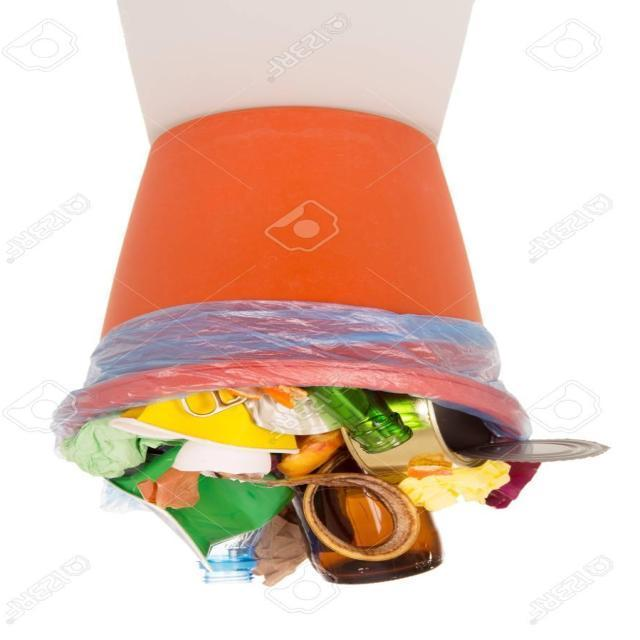Garbage: (33, 367, 549, 590)
Metal: (244, 395, 340, 435), (457, 439, 609, 462), (181, 392, 248, 418)
contaminated_waste: (295, 450, 433, 588), (303, 389, 412, 457), (203, 527, 268, 586)
